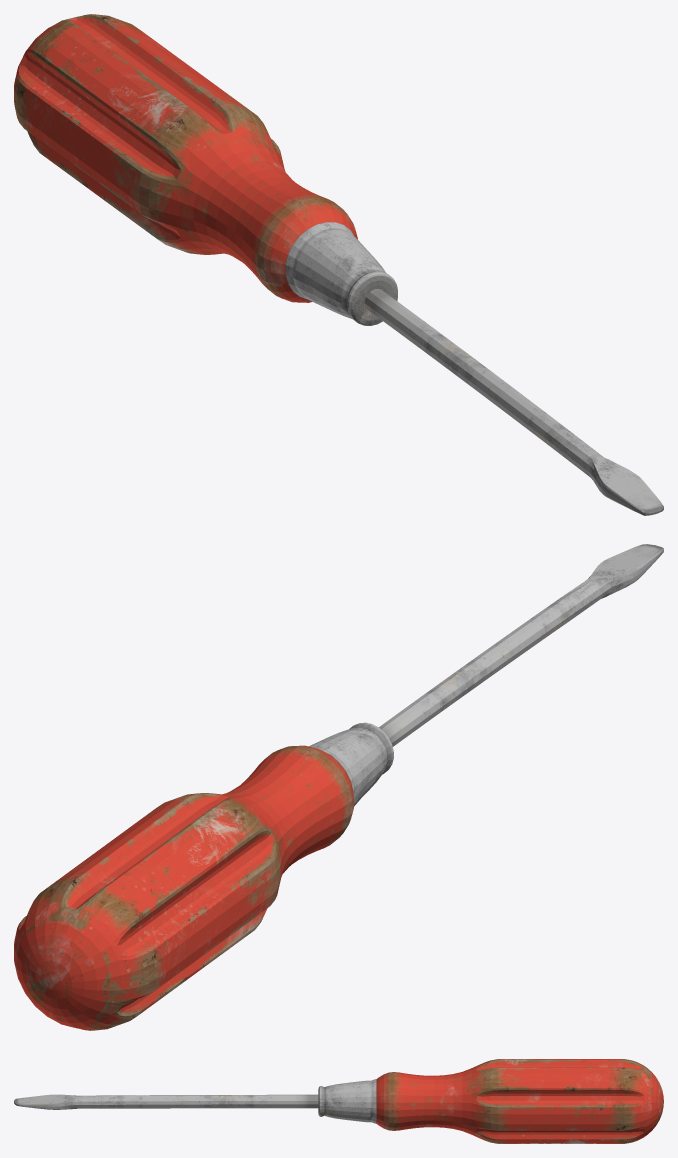
The model's file is screwdriver.obj.
3 renders of one model, top to bottom at view 1: azimuth 30°, elevation 25°; view 2: azimuth 150°, elevation 25°; view 3: azimuth 270°, elevation 25°, orthographic. The views are drawn at different scales.
Size of the model in its own units: 0.0286 by 0.0281 by 0.22.
Materials: 1 (1 with a texture image).
